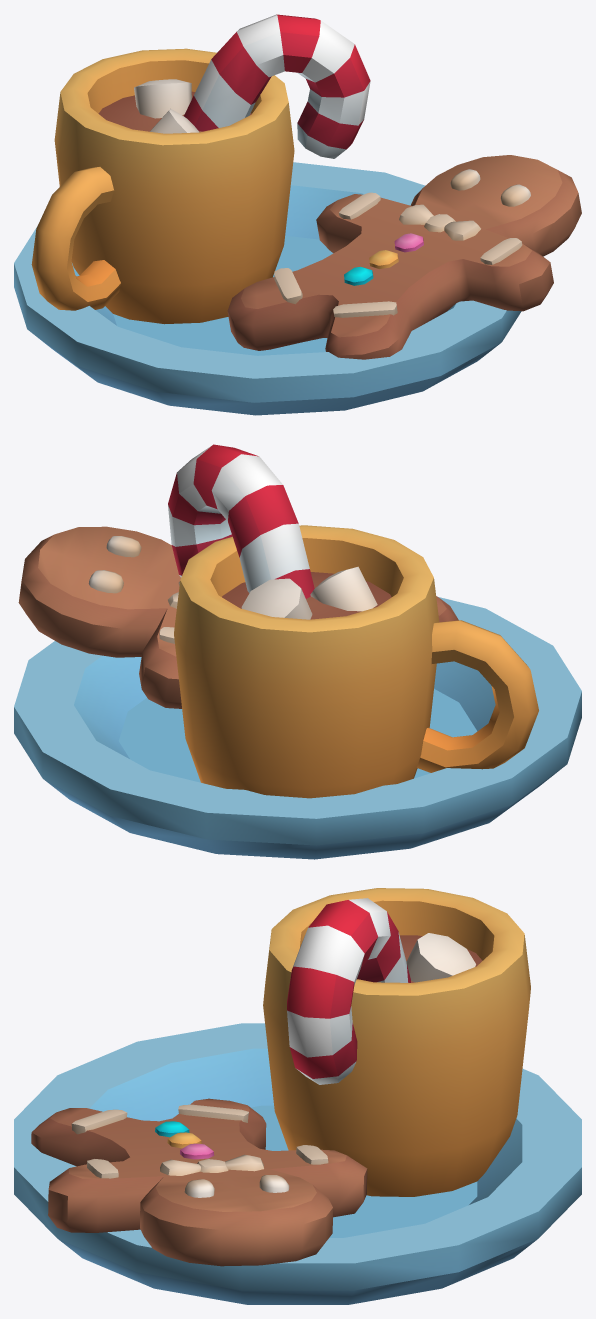
File: plate_decorated_A.obj
3 views of the same model, one above another, from view 1: azimuth 30°, elevation 25°; view 2: azimuth 150°, elevation 25°; view 3: azimuth 270°, elevation 25° (orthographic). The views are drawn at different scales.
Parts seen in each view (by area): view 1: plate_decorated_A; view 2: plate_decorated_A; view 3: plate_decorated_A.
Part boxes in pixels (box(x1,y1,x2,y2)): plate_decorated_A: box(14, 14, 581, 415); plate_decorated_A: box(14, 444, 581, 859); plate_decorated_A: box(14, 888, 581, 1304).
Size of the model in its own units: 1.07 by 0.5789 by 0.95.
Materials: 1 (1 with a texture image).
